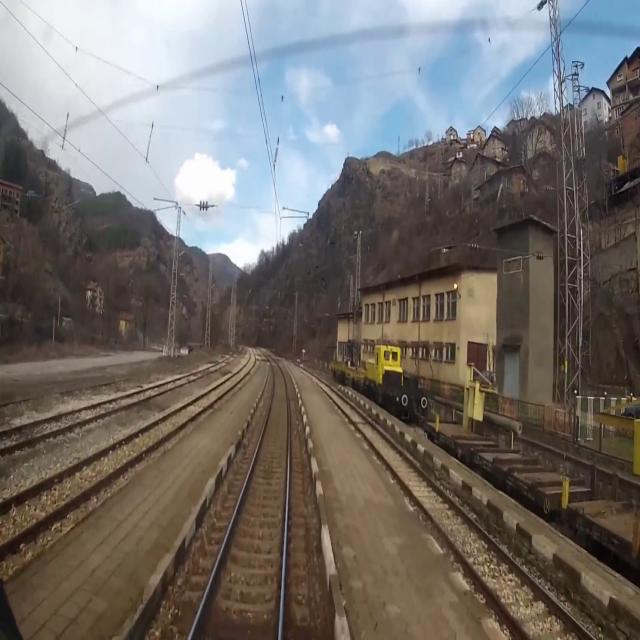rail-track: (326, 388, 589, 639), (0, 354, 253, 539), (192, 361, 287, 639), (0, 388, 160, 445)
